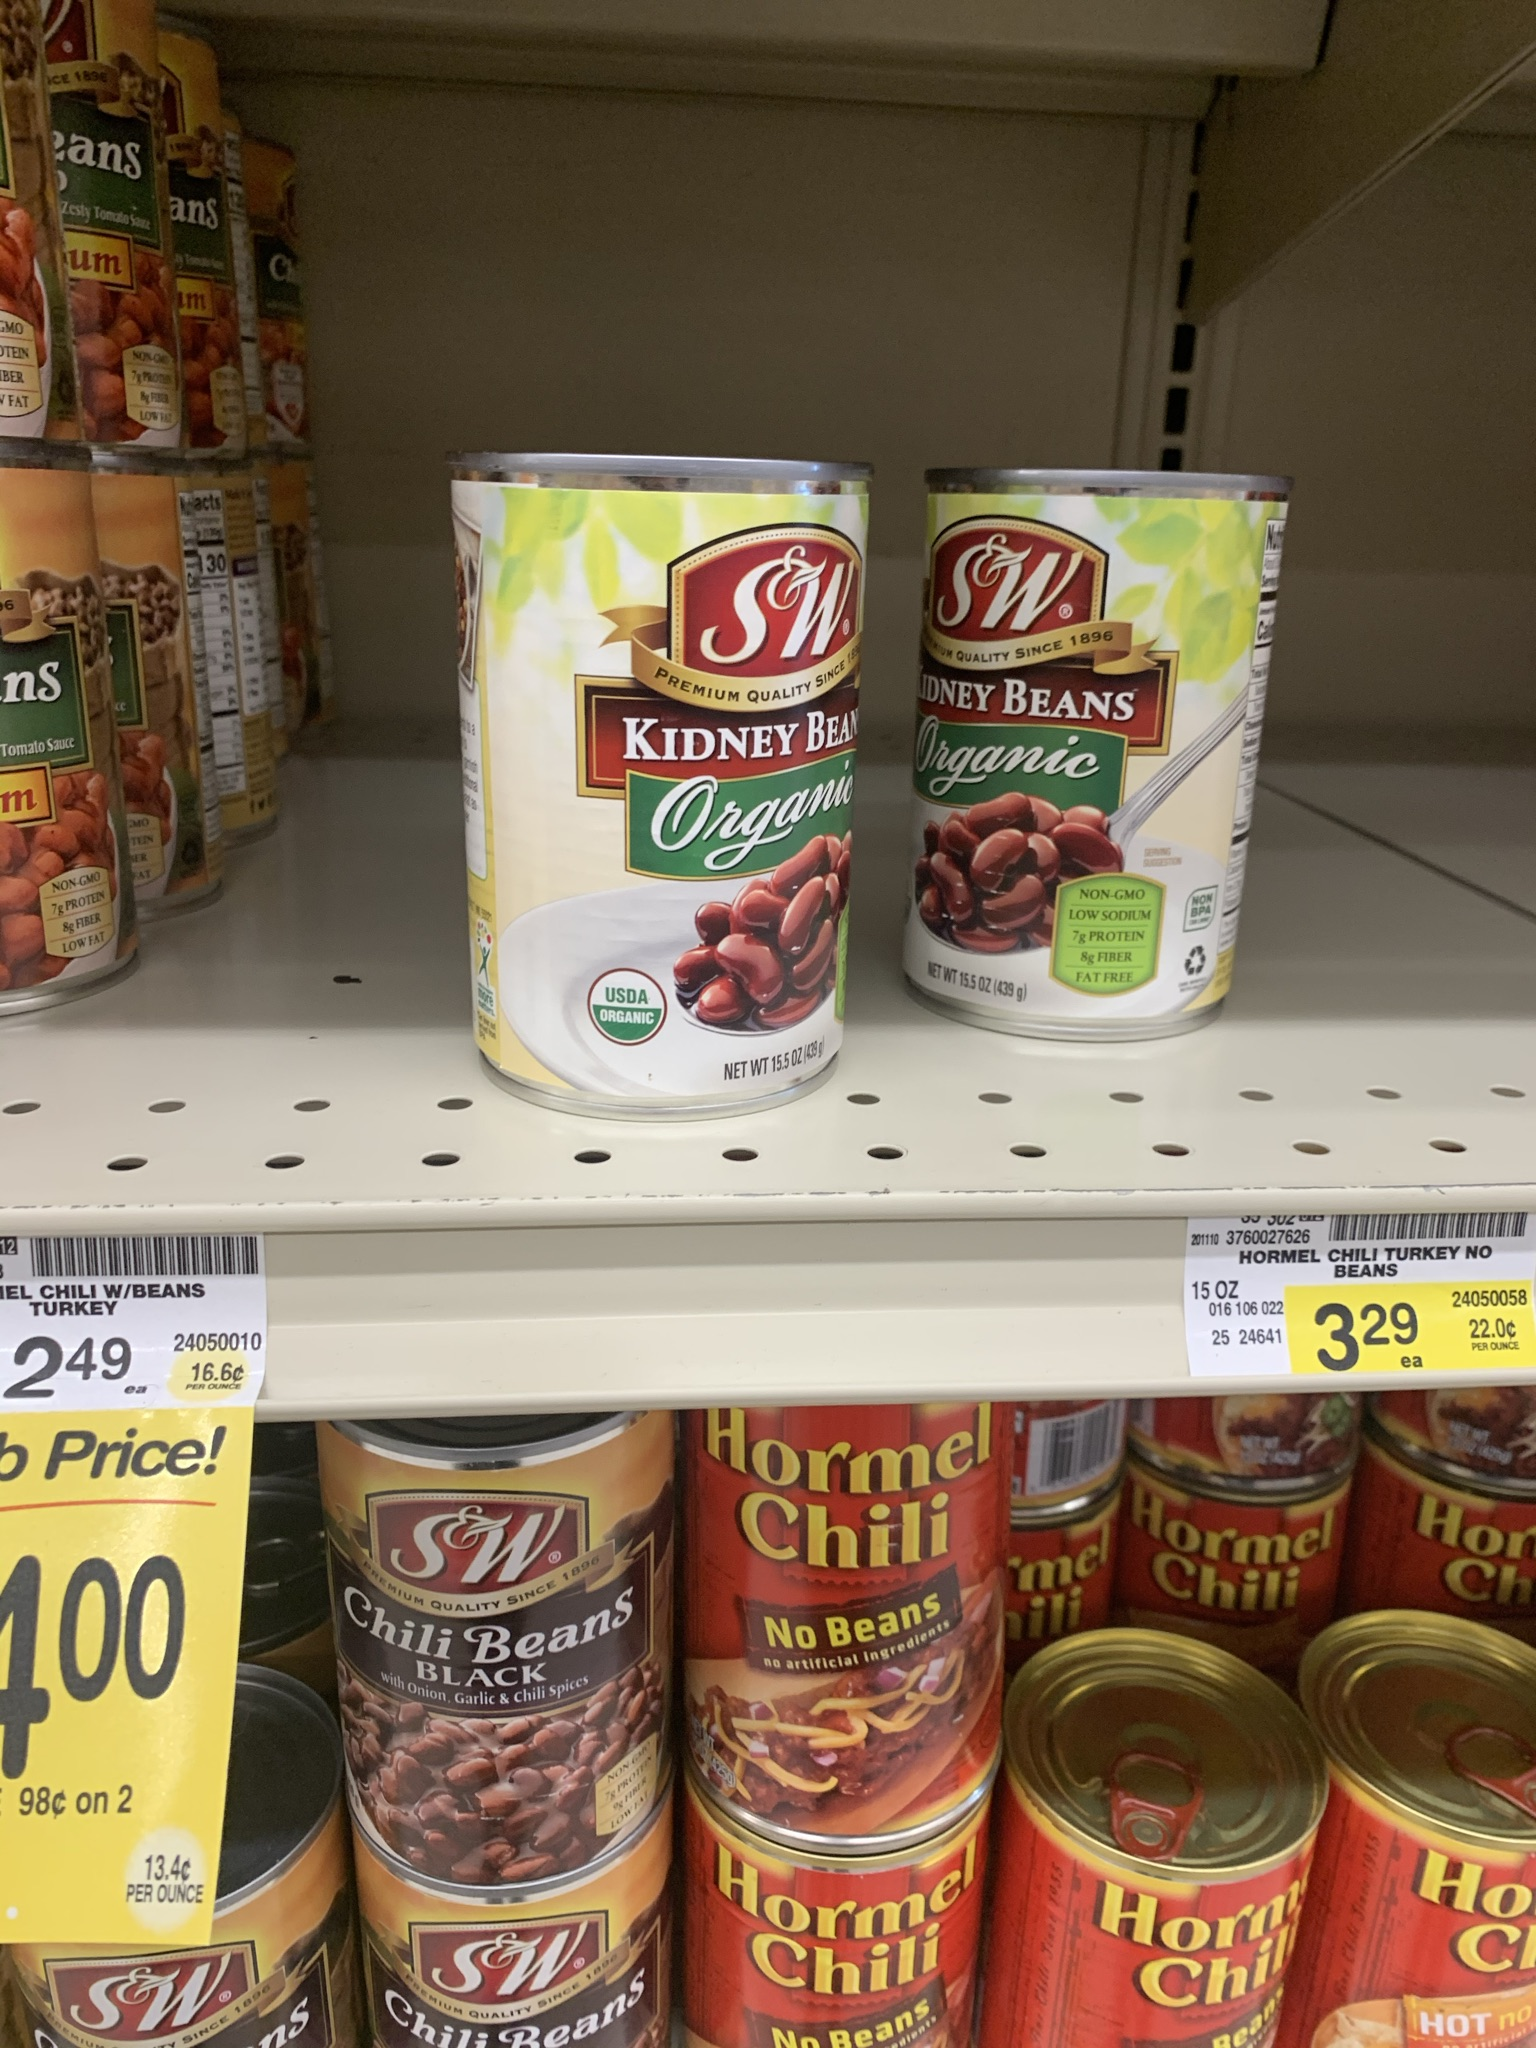can: (482, 472, 836, 1093), (928, 484, 1228, 1022), (339, 1434, 671, 1821), (699, 1419, 1005, 1779)
